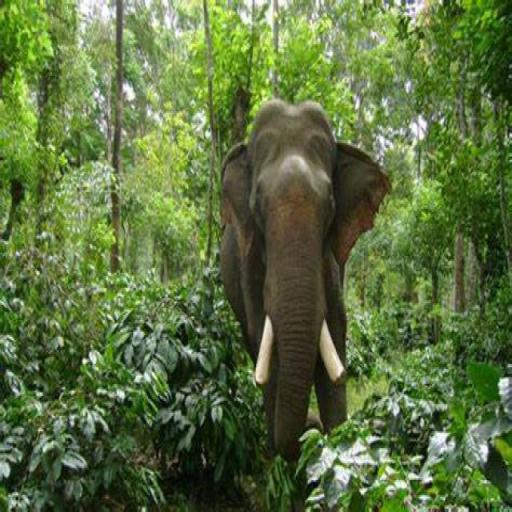Elephant: (218, 96, 392, 466)
